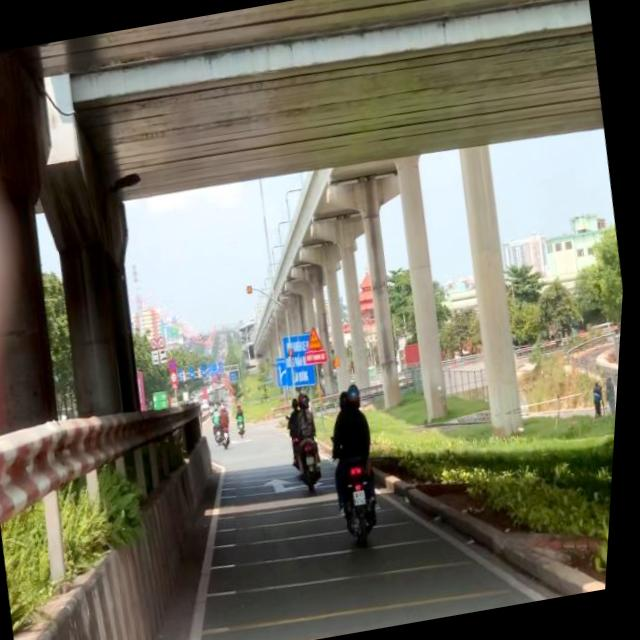Cam dung xe va do xe: (171, 357, 182, 373)
Di cham: (307, 323, 329, 353)
Toc do toi da cho phep: (153, 336, 163, 351), (161, 336, 171, 349)
